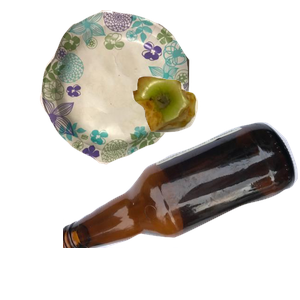glass: (63, 120, 300, 300)
paper: (37, 10, 219, 167)
plastic: (84, 191, 242, 300)
trash: (130, 74, 300, 199)
